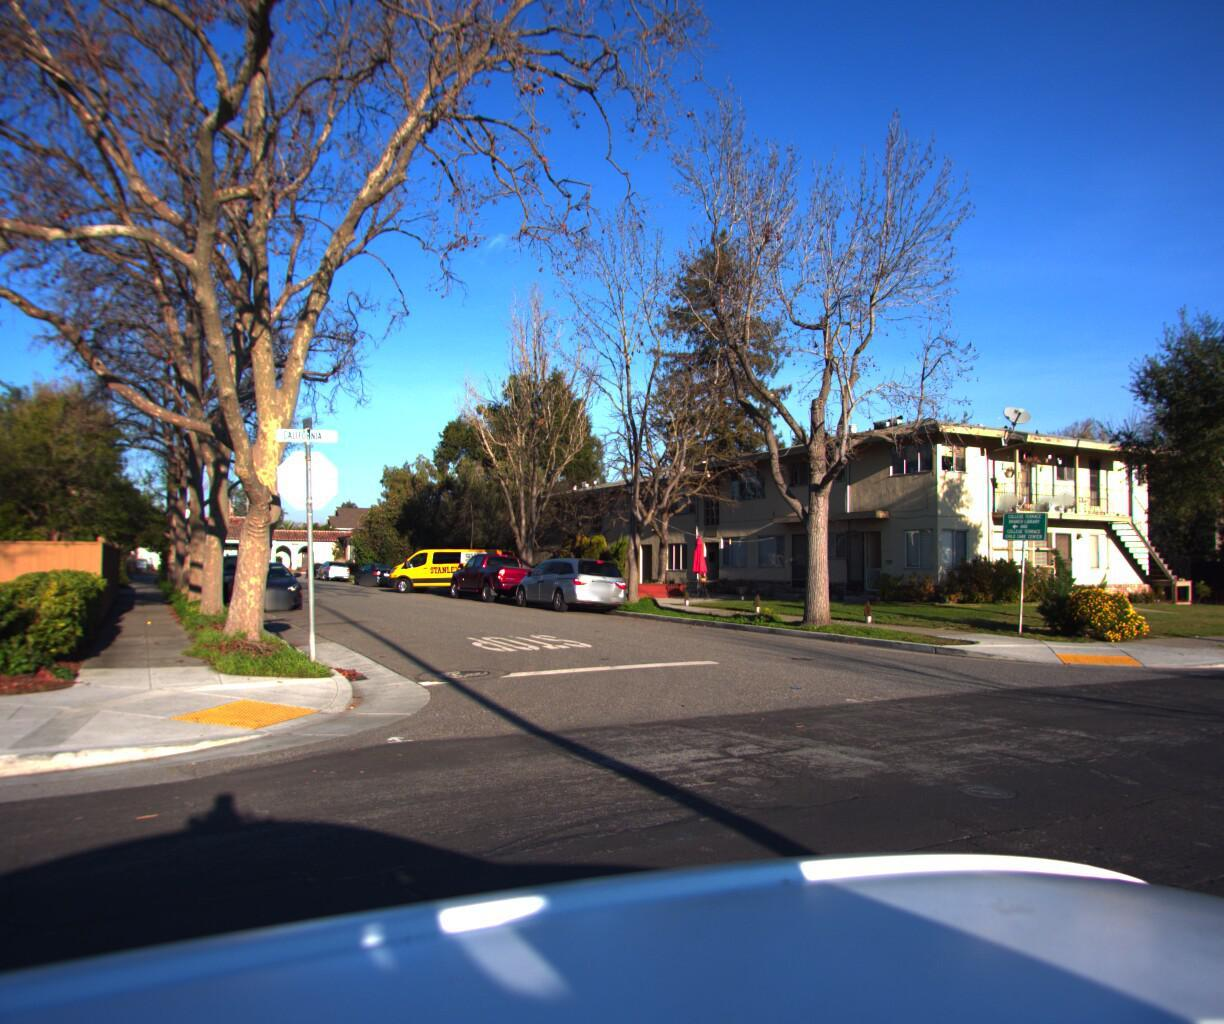car: (510, 551, 641, 611), (382, 543, 519, 591), (444, 546, 557, 602), (224, 556, 314, 609), (212, 546, 285, 599), (356, 558, 403, 584), (318, 555, 354, 577)
